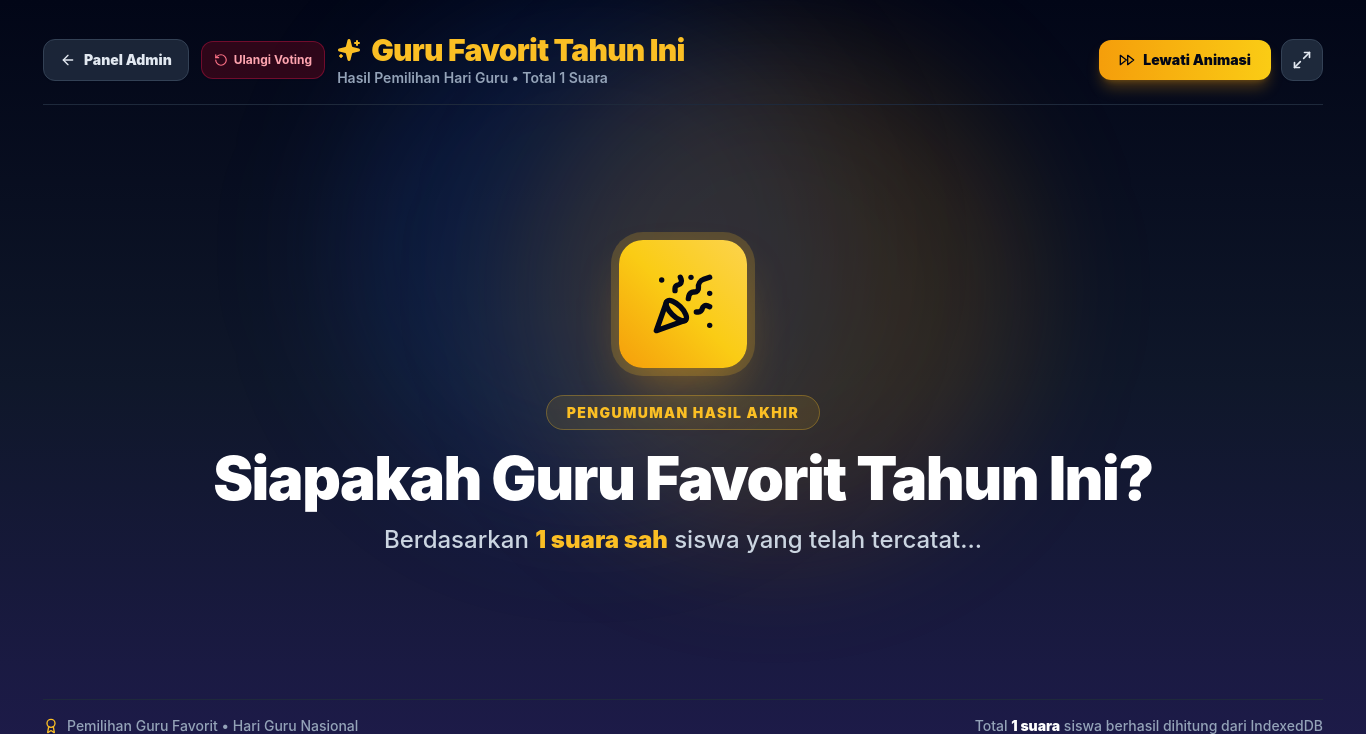
Test: Komponen UI & Alur Pemilihan Siswa › animasi hasil Kahoot dapat dilewati langsung dengan tombol Lewati Animasi
The width and height of the screenshot is (1366, 734).
Expected: the heading "Siapakah Guru Favorit Tahun Ini?" is shown, [213,448,1153,508]
Step 1. Click the button "Lewati Animasi" → (1185, 60), box [1099,40,1271,80]
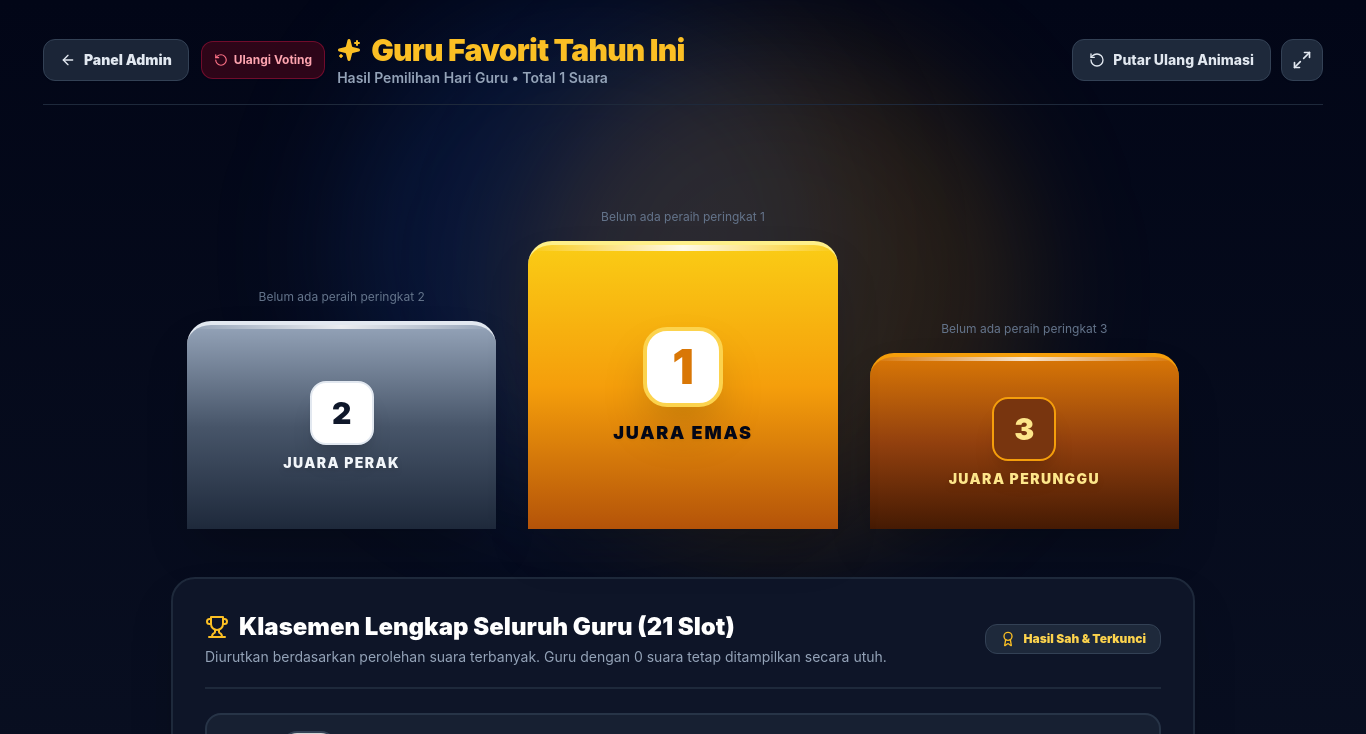
Expected: the text "Klasemen Lengkap Seluruh Guru (21 Slot)" is shown, [239,611,735,643]
